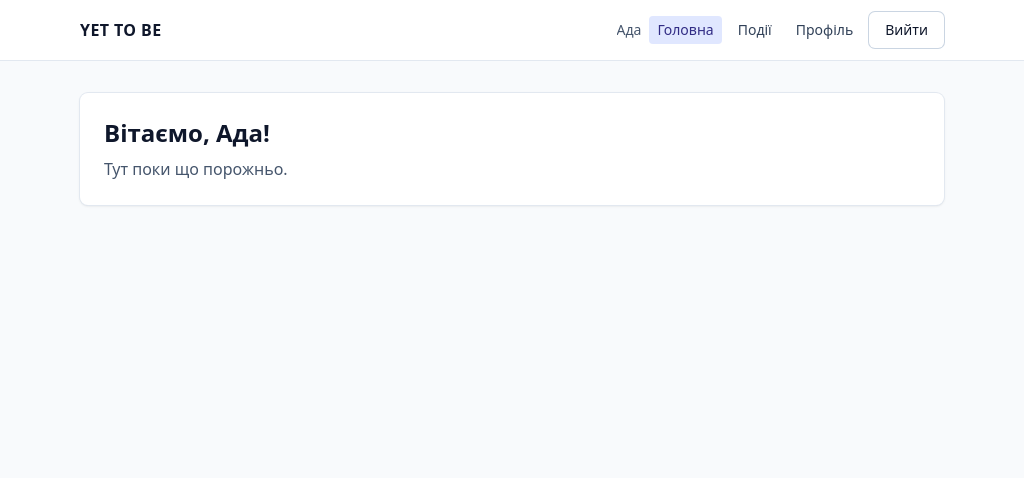
Test case: маршрутизація › вихід очищає кеш і веде на /login
Click the button "Вийти": [907, 30] box [869, 12, 944, 48]
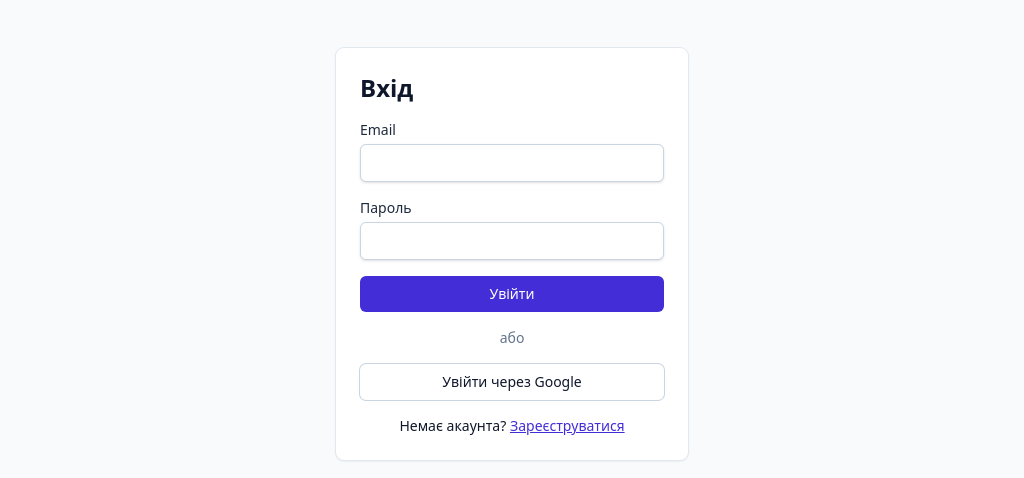
Check: the heading "Вхід" is shown, box [360, 71, 413, 104]
